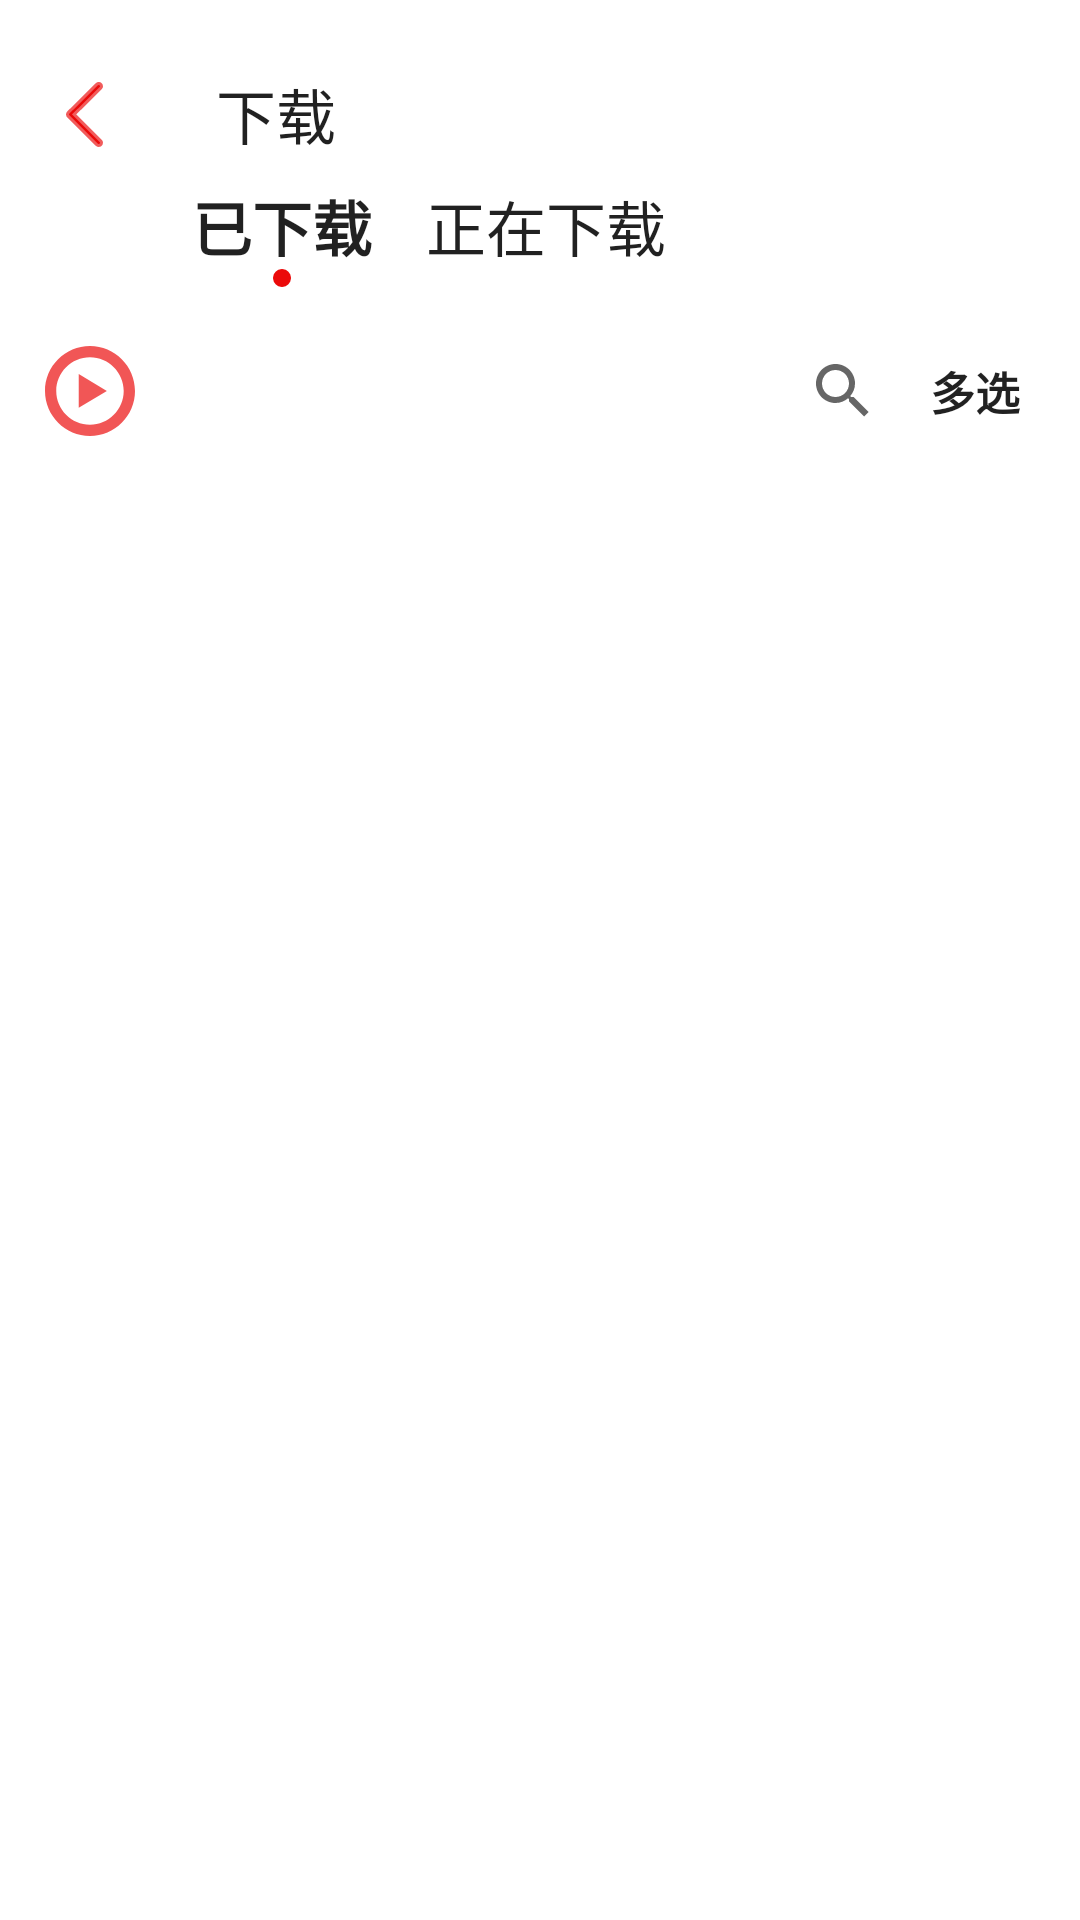

Screen size 1080px×1920px. Icon name, then its center in pixels as (x=x, y=y):
load play: (x=90, y=391)
